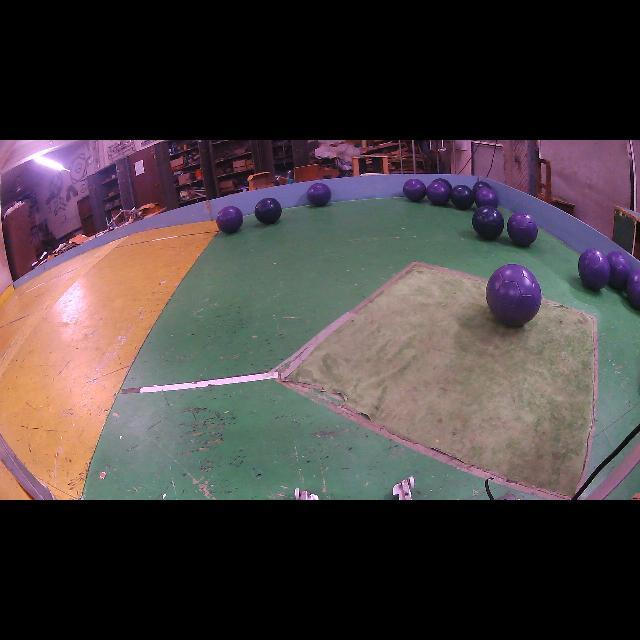B: (472, 206, 504, 240), (255, 198, 281, 225), (450, 185, 474, 210), (308, 182, 331, 206), (472, 181, 491, 194)
P: (486, 264, 541, 326), (579, 249, 610, 291), (506, 212, 538, 246), (606, 251, 630, 290), (216, 206, 244, 234), (426, 181, 450, 205), (626, 269, 640, 310), (402, 179, 426, 201), (475, 188, 499, 208)
